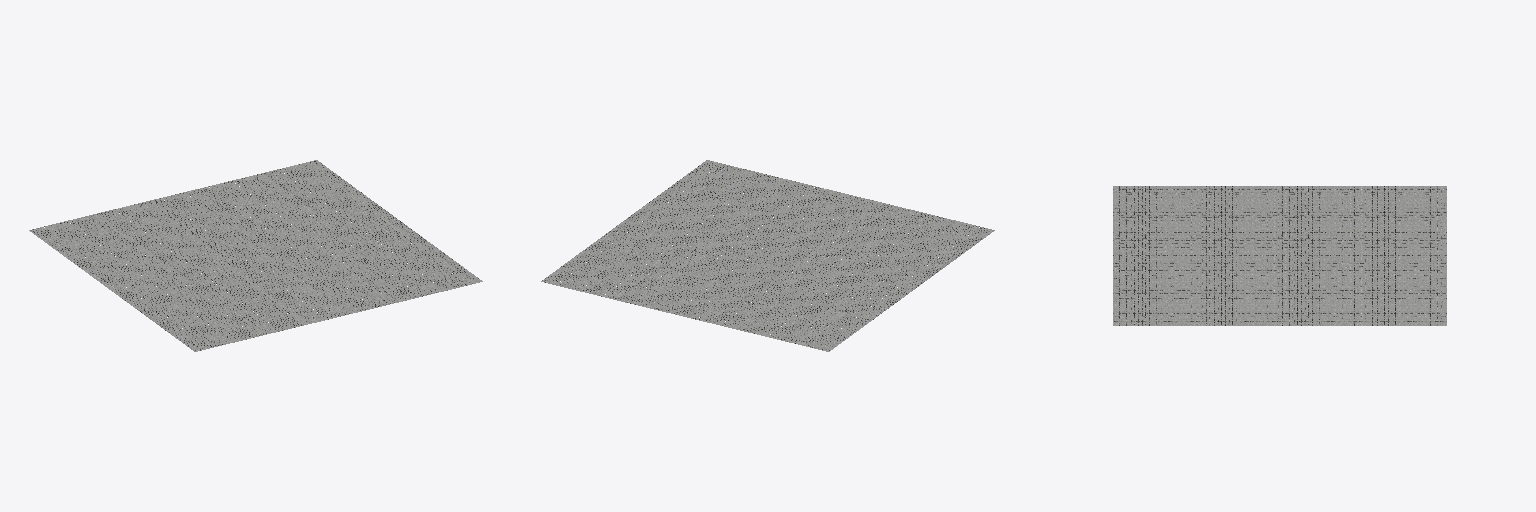
The picture shows the model from 3 angles: view 1: azimuth 30°, elevation 25°; view 2: azimuth 150°, elevation 25°; view 3: azimuth 270°, elevation 25°; orthographic projection.
Parts seen in each view (by area): view 1: pisoC:pPlane1; view 2: pisoC:pPlane1; view 3: pisoC:pPlane1.
Boxes of the visible parts, x1=… form: pisoC:pPlane1: x1=29, y1=160, x2=482, y2=351; pisoC:pPlane1: x1=541, y1=160, x2=994, y2=351; pisoC:pPlane1: x1=1113, y1=186, x2=1446, y2=325.
Bounding box in the file's own units: 30 × 0 × 30.
1 materials, 1 textured.